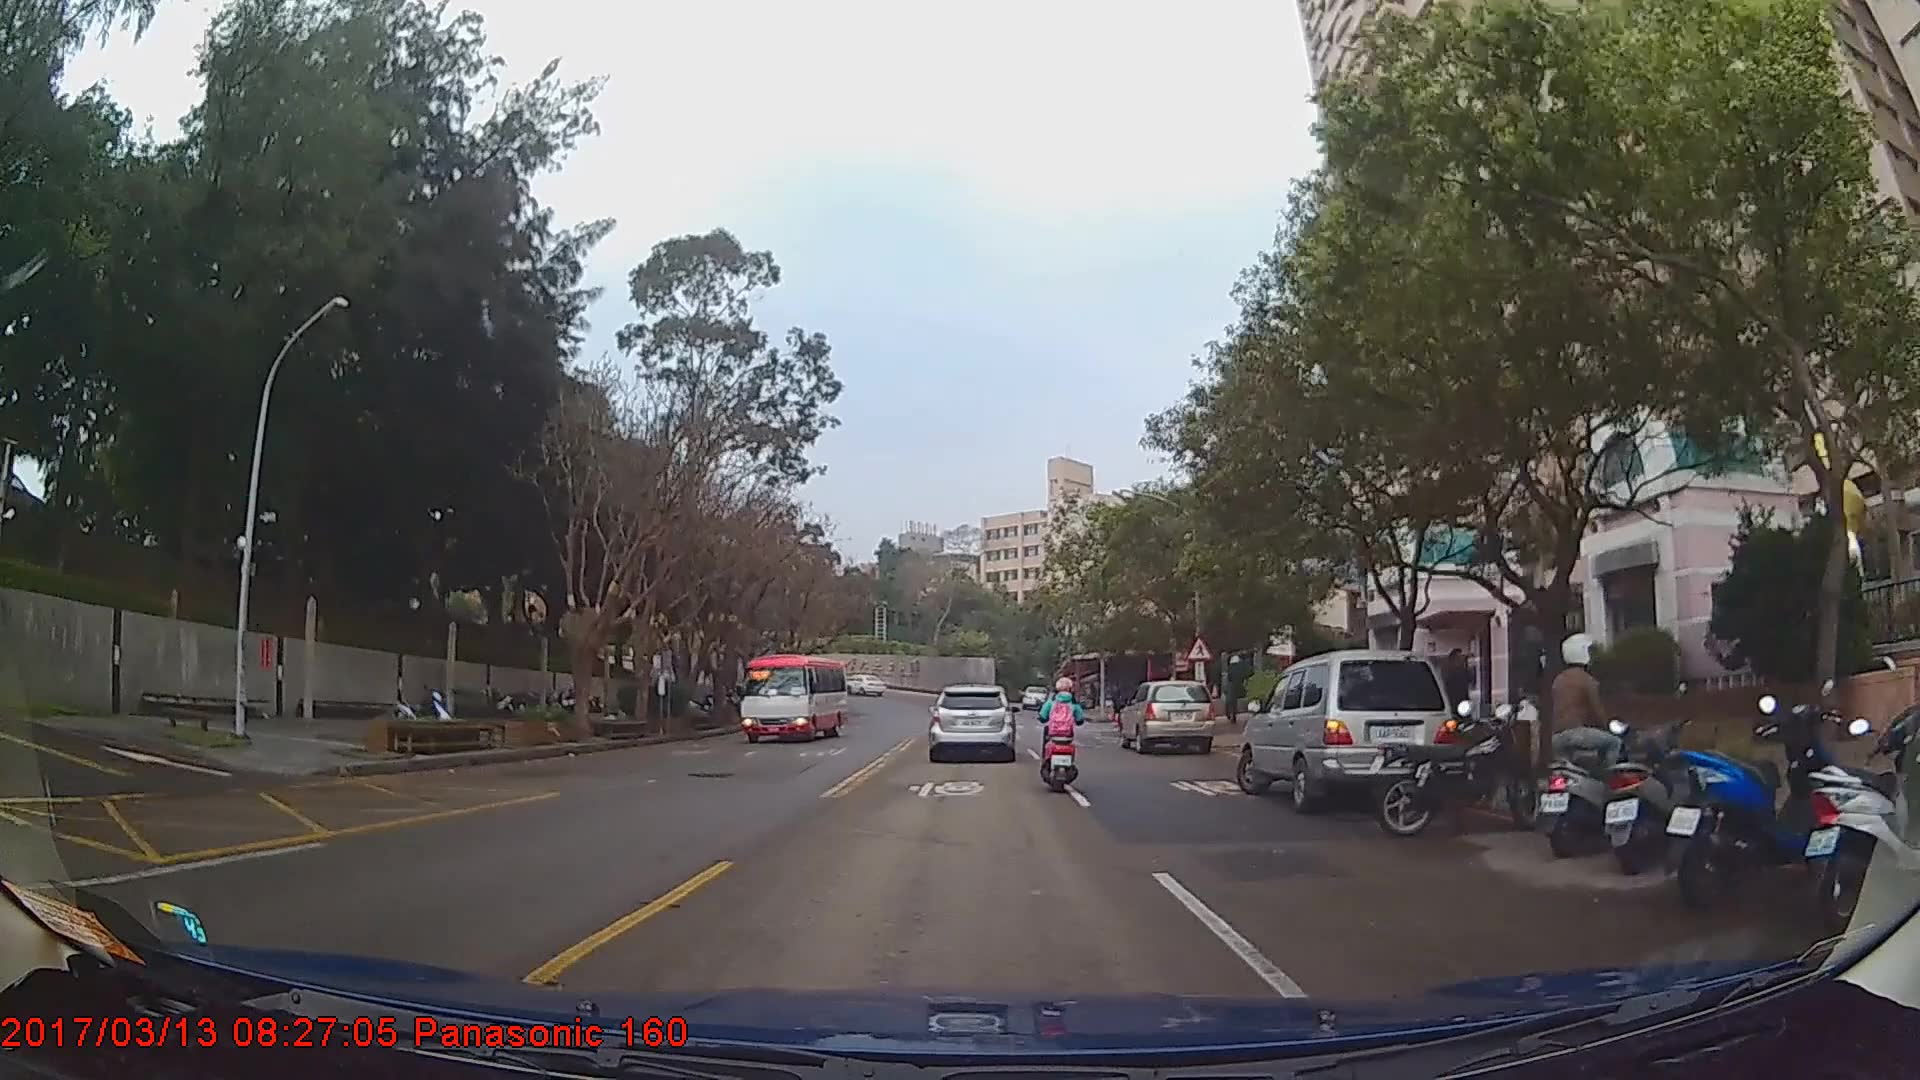pedestrian: (1443, 645, 1475, 736)
rider: (1034, 668, 1088, 798)
vehicle: (1238, 648, 1458, 812), (738, 654, 846, 741), (926, 681, 1016, 762), (1120, 678, 1214, 751), (839, 669, 883, 696)
